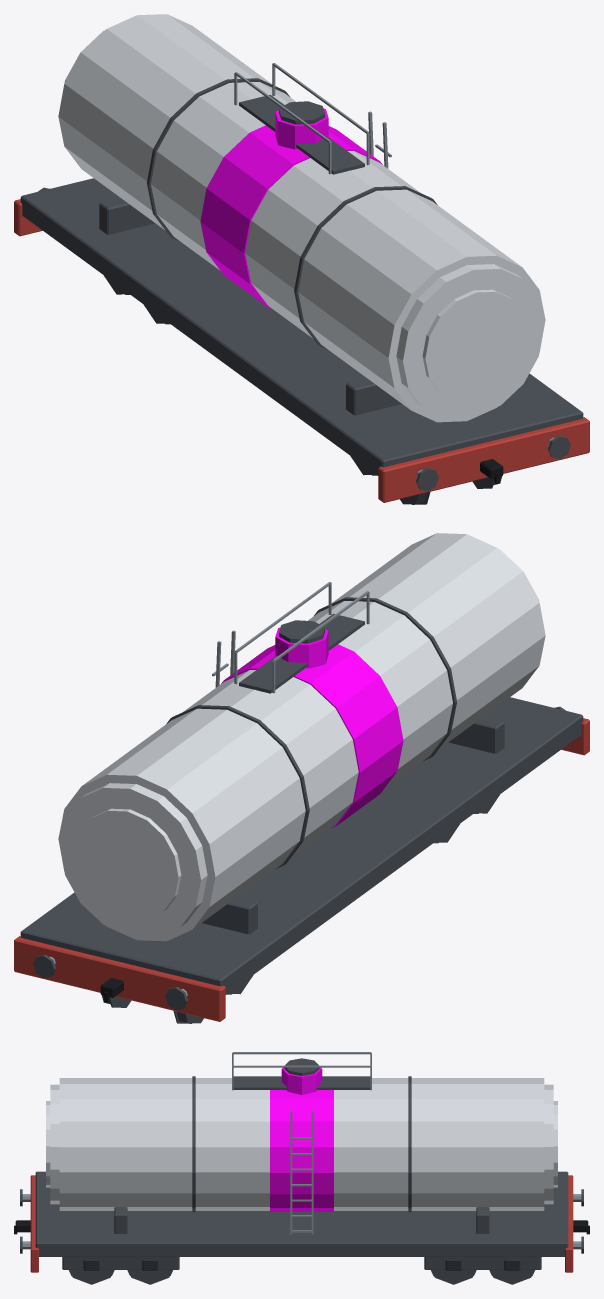
File: wagon_citerne.glb
The picture shows the model from 3 angles, top to bottom: view 1: azimuth 30°, elevation 25°; view 2: azimuth 150°, elevation 25°; view 3: azimuth 270°, elevation 25°; orthographic projection. The views are drawn at different scales.
Visible parts, largest first — view 1: pieces_citerne.002, pieces_acier_sombre.008, pieces_teinte.002, pieces_rouge.006, pieces_acier.008, roues_av_acier_sombre.008; view 2: pieces_citerne.002, pieces_acier_sombre.008, pieces_teinte.002, pieces_rouge.006, pieces_acier.008, roues_ar_acier_sombre.008; view 3: pieces_citerne.002, pieces_acier_sombre.008, pieces_teinte.002, pieces_acier.008, pieces_rouge.006, roues_ar_acier_sombre.008, roues_av_acier_sombre.008, pieces_fonte.008, pieces_noir.008.
Part boxes in pixels (x1=…): pieces_citerne.002: x1=58, y1=14, x2=545, y2=422; pieces_acier_sombre.008: x1=20, y1=78, x2=583, y2=491; pieces_teinte.002: x1=200, y1=108, x2=382, y2=309; pieces_rouge.006: x1=14, y1=199, x2=589, y2=502; pieces_acier.008: x1=234, y1=63, x2=554, y2=477; roues_av_acier_sombre.008: x1=350, y1=456, x2=501, y2=504; pieces_citerne.002: x1=58, y1=533, x2=545, y2=941; pieces_acier_sombre.008: x1=20, y1=597, x2=583, y2=1010; pieces_teinte.002: x1=221, y1=627, x2=403, y2=828; pieces_rouge.006: x1=14, y1=718, x2=589, y2=1021; pieces_acier.008: x1=49, y1=582, x2=369, y2=996; roues_ar_acier_sombre.008: x1=102, y1=975, x2=253, y2=1023; pieces_citerne.002: x1=46, y1=1078, x2=557, y2=1210; pieces_acier_sombre.008: x1=20, y1=1058, x2=583, y2=1269; pieces_teinte.002: x1=270, y1=1067, x2=333, y2=1211; pieces_acier.008: x1=22, y1=1052, x2=581, y2=1249; pieces_rouge.006: x1=30, y1=1175, x2=573, y2=1272; roues_ar_acier_sombre.008: x1=431, y1=1270, x2=534, y2=1284; roues_av_acier_sombre.008: x1=69, y1=1270, x2=172, y2=1284; pieces_fonte.008: x1=83, y1=1259, x2=520, y2=1270; pieces_noir.008: x1=14, y1=1220, x2=589, y2=1234.
Size of the model in its own units: 1.65 by 2.2 by 5.41.
